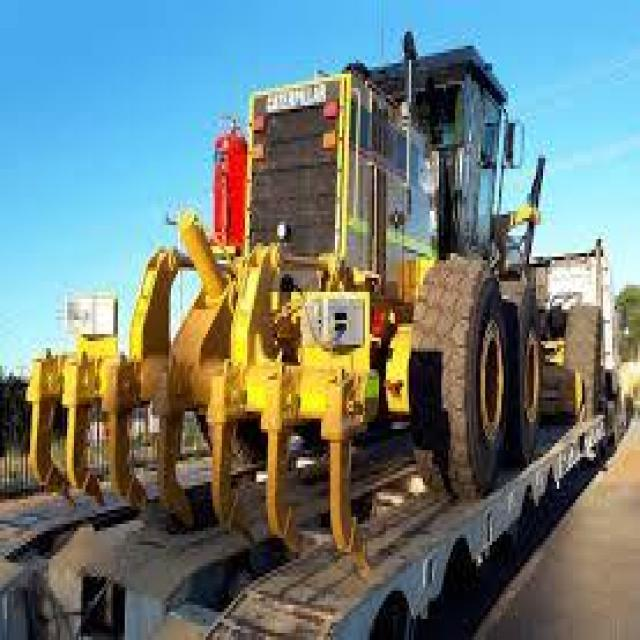Grader: (21, 25, 612, 502)
